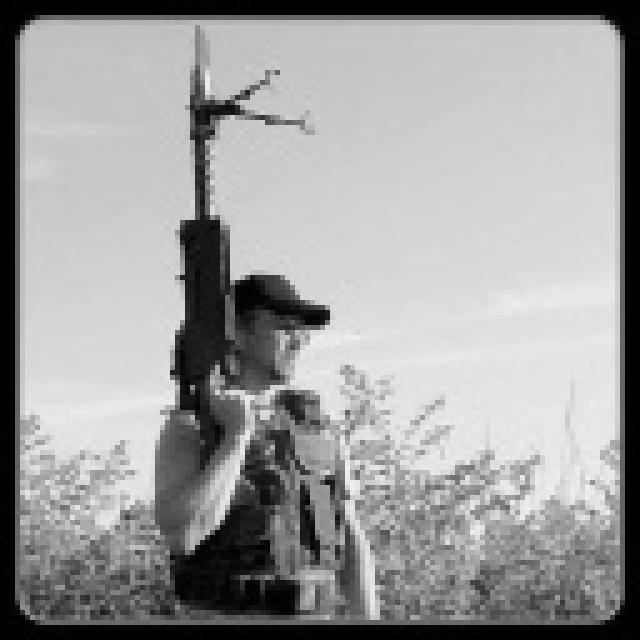Rifle: (89, 11, 351, 503)
